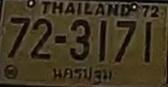1: (144, 21, 151, 62), (99, 20, 106, 60), (144, 21, 150, 62)
2: (30, 18, 52, 58)
3: (69, 19, 89, 59)
7: (114, 20, 136, 61), (7, 16, 29, 57)
NPT: (51, 64, 115, 85)
